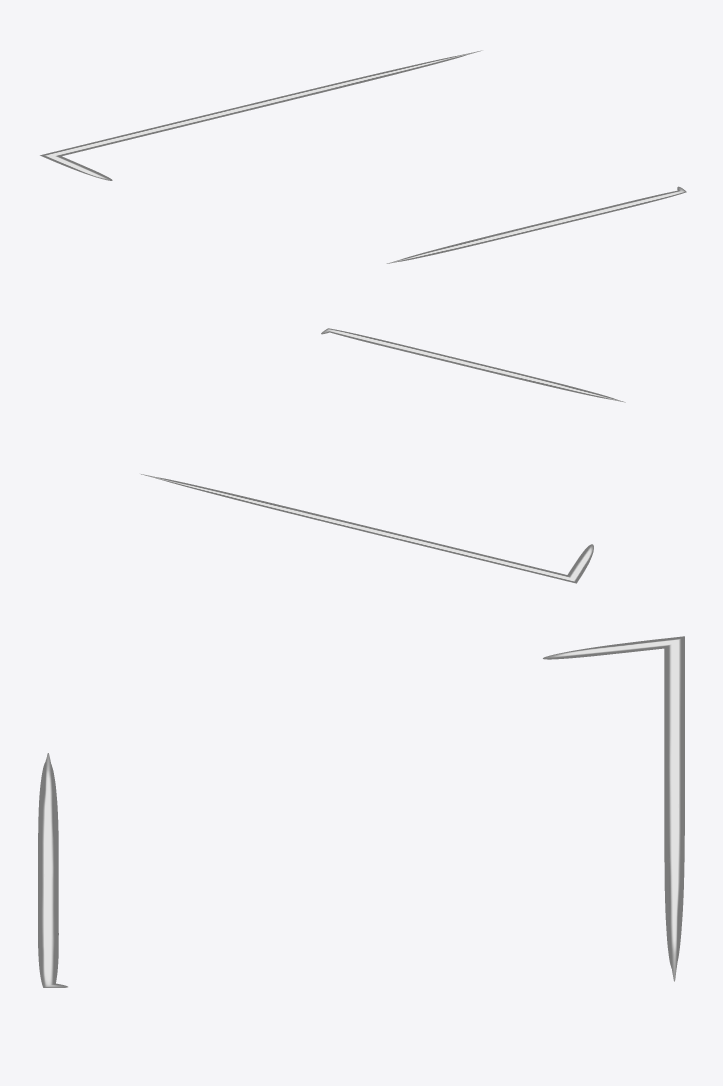
File: chuangguan_buttonedge02.FBX
The picture shows the model from 3 angles, top to bottom: view 1: azimuth 30°, elevation 25°; view 2: azimuth 150°, elevation 25°; view 3: azimuth 270°, elevation 25°; orthographic projection. The views are drawn at different scales.
Parts seen in each view (by area): view 1: chuangguan_buttonedge02; view 2: chuangguan_buttonedge02; view 3: chuangguan_buttonedge02.
Part boxes in pixels (bbox=[...]): chuangguan_buttonedge02: bbox=[40, 50, 686, 263]; chuangguan_buttonedge02: bbox=[141, 328, 625, 583]; chuangguan_buttonedge02: bbox=[38, 636, 684, 987].
Size of the model in its own units: 275 by 5.09e-14 by 180.
1 material, 1 textured.
